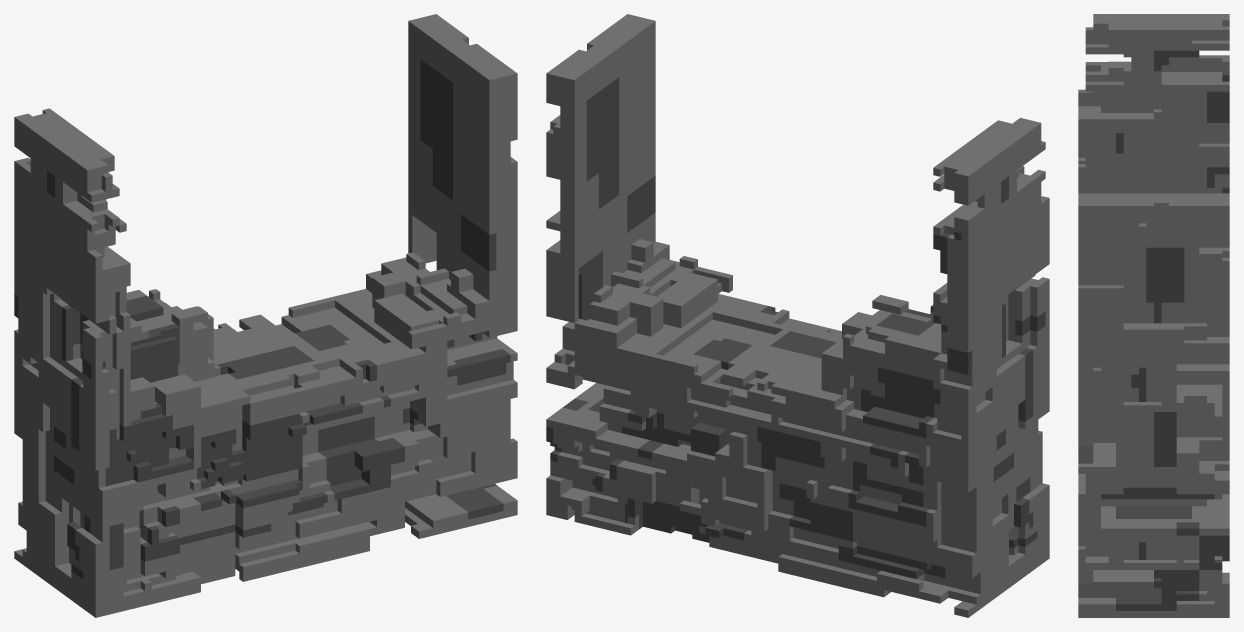
Rendered from Stena.obj.
3 renders of one model, left to right at view 1: azimuth 30°, elevation 25°; view 2: azimuth 150°, elevation 25°; view 3: azimuth 270°, elevation 25°, orthographic. The views are drawn at different scales.
Bounding box in the file's own units: 6 × 6 × 2.
Materials: 1 (1 with a texture image).
